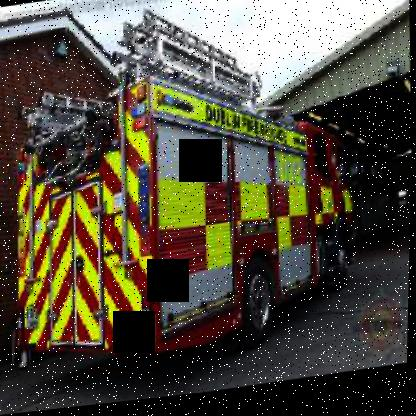emergency: (4, 0, 372, 394)
